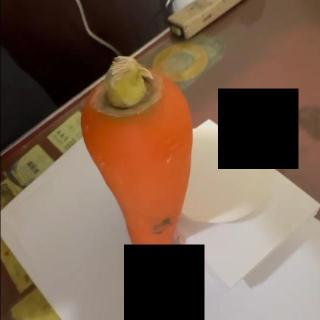carrot: (81, 58, 193, 272)
